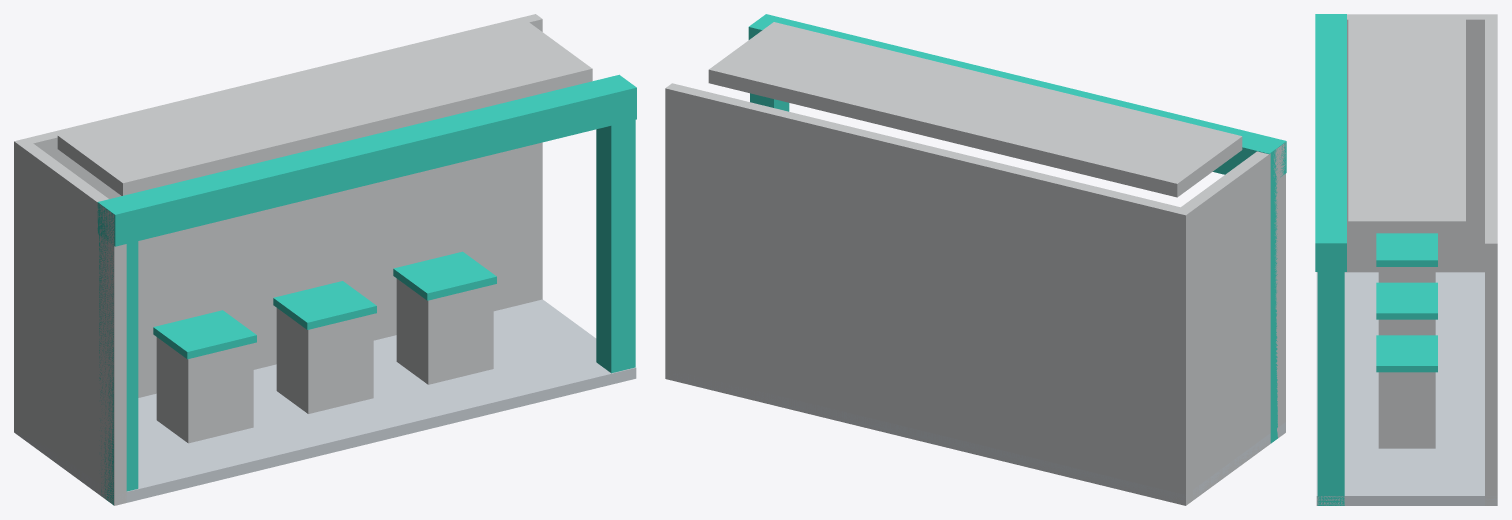
3 views of the same model, side by side, from view 1: azimuth 30°, elevation 25°; view 2: azimuth 150°, elevation 25°; view 3: azimuth 270°, elevation 25° (orthographic). The views are drawn at different scales.
Visible parts, largest first — view 1: Exhibition Booth Concept; view 2: Exhibition Booth Concept; view 3: Exhibition Booth Concept.
Boxes of the visible parts, box(x1,y1,x2,y2) form: Exhibition Booth Concept: box(14, 14, 636, 505); Exhibition Booth Concept: box(665, 14, 1286, 505); Exhibition Booth Concept: box(1315, 14, 1497, 505).
Bounding box in the file's own units: 6 × 3.34 × 2.01.
